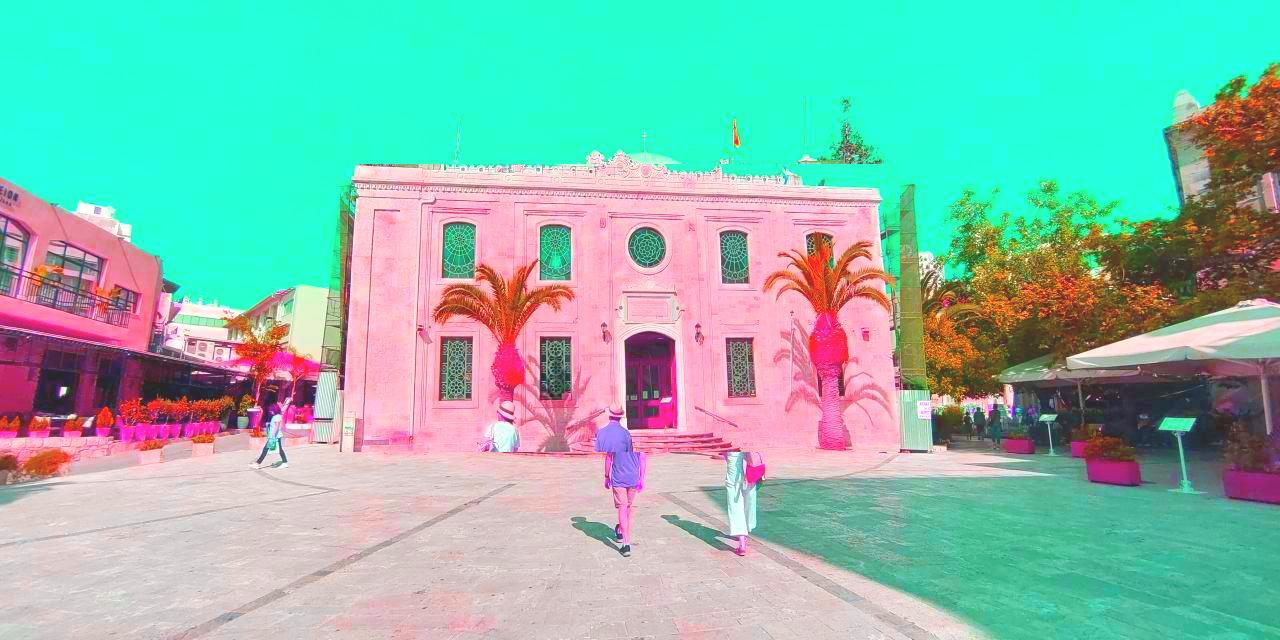Agios Titos: (341, 165, 901, 453)
